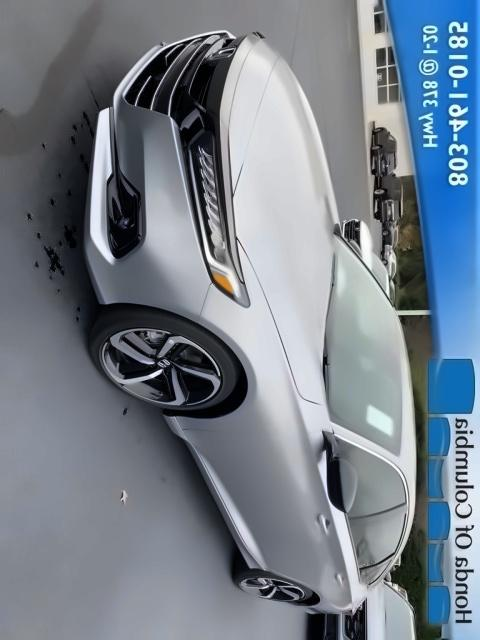Car hood: (219, 28, 342, 408)
Fender - -F-L-: (178, 241, 336, 431)
Front bumper: (76, 20, 210, 327)
Headlight - -L-: (182, 123, 256, 313)
Passenger-s door - -F-L-: (185, 433, 414, 537)
Passenger-s door - -R-L-: (241, 522, 411, 593)
Side bumper - -L-: (159, 409, 272, 576)
Side mirror - -L-: (315, 425, 362, 514)
